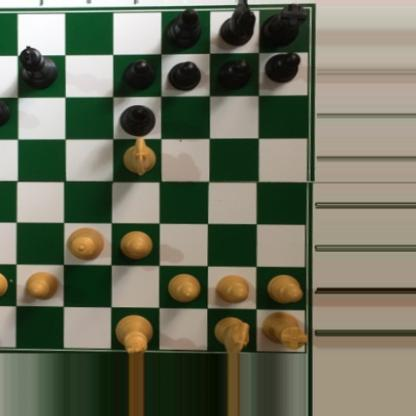black-bishop: (161, 3, 201, 51), (119, 103, 156, 137)
black-king: (16, 42, 57, 88)
black-knight: (220, 3, 257, 47)
black-pawn: (264, 51, 301, 86), (215, 58, 253, 91), (122, 59, 156, 91), (167, 60, 201, 92), (0, 99, 10, 130)
black-rook: (258, 3, 308, 49)
white-king: (113, 312, 154, 354)
white-knight: (212, 314, 252, 354), (121, 133, 155, 173)
white-pawn: (263, 273, 302, 306), (164, 271, 202, 303), (214, 273, 250, 306), (23, 270, 61, 301), (119, 230, 155, 261), (0, 269, 10, 301)
white-queen: (65, 224, 105, 260)
white-rook: (258, 309, 308, 350)
